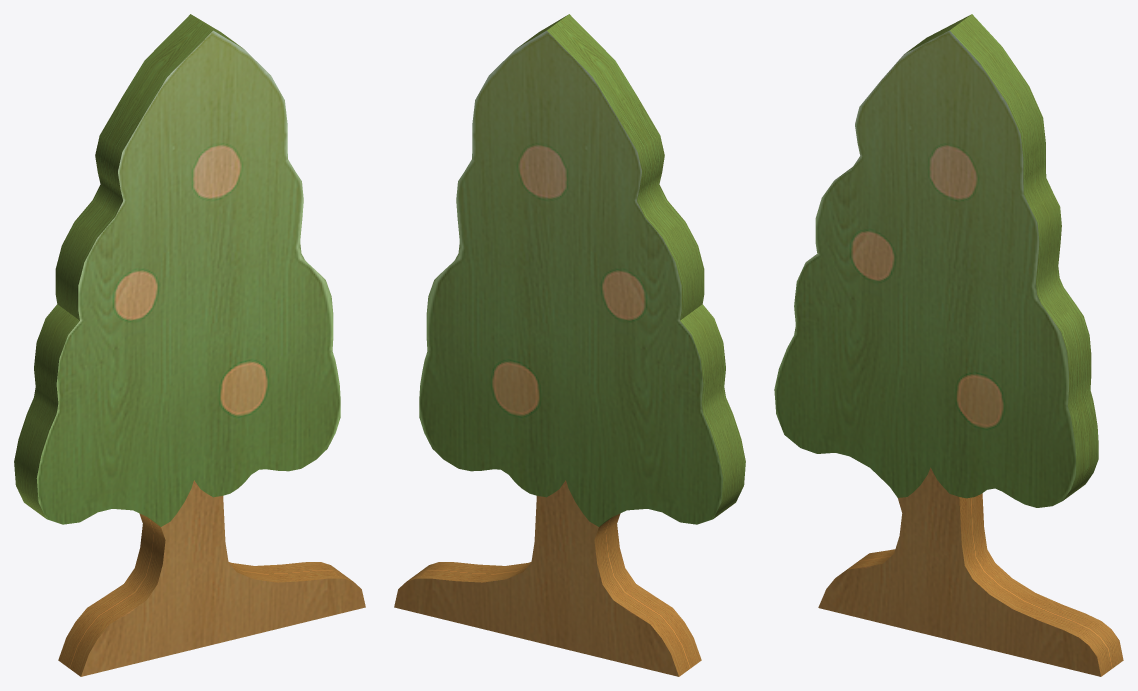
File: Doll_OB_ToyTrainDec_005.FBX
The picture shows the model from 3 angles, left to right: view 1: azimuth 30°, elevation 25°; view 2: azimuth 150°, elevation 25°; view 3: azimuth 330°, elevation 25°; orthographic projection.
Parts seen in each view (by area): view 1: Doll_OB_ToyTrainDec_005; view 2: Doll_OB_ToyTrainDec_005; view 3: Doll_OB_ToyTrainDec_005.
Part boxes in pixels (x1,y1,x2,y2): Doll_OB_ToyTrainDec_005: [14, 14, 365, 676]; Doll_OB_ToyTrainDec_005: [394, 14, 745, 676]; Doll_OB_ToyTrainDec_005: [774, 14, 1123, 676].
Bounding box in the file's own units: 11.06 × 19.72 × 1.32.
